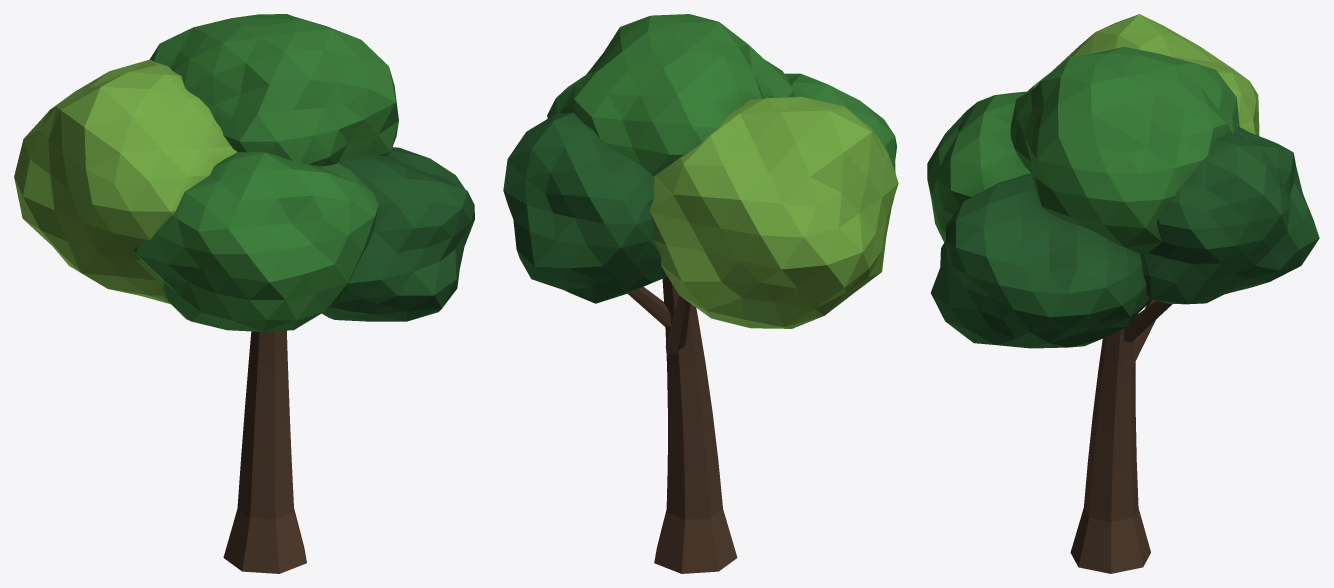
Rendered from Tree3.fbx.
3 renders of one model, left to right at view 1: azimuth 30°, elevation 25°; view 2: azimuth 150°, elevation 25°; view 3: azimuth 270°, elevation 25°, orthographic. The views are drawn at different scales.
Visible parts, largest first — view 1: Tree3; view 2: Tree3; view 3: Tree3.
Part boxes in pixels (x1=…): Tree3: x1=14, y1=14, x2=474, y2=573; Tree3: x1=503, y1=14, x2=898, y2=573; Tree3: x1=927, y1=14, x2=1319, y2=573.
Bounding box in the file's own units: 5.67 × 7.47 × 5.31.
